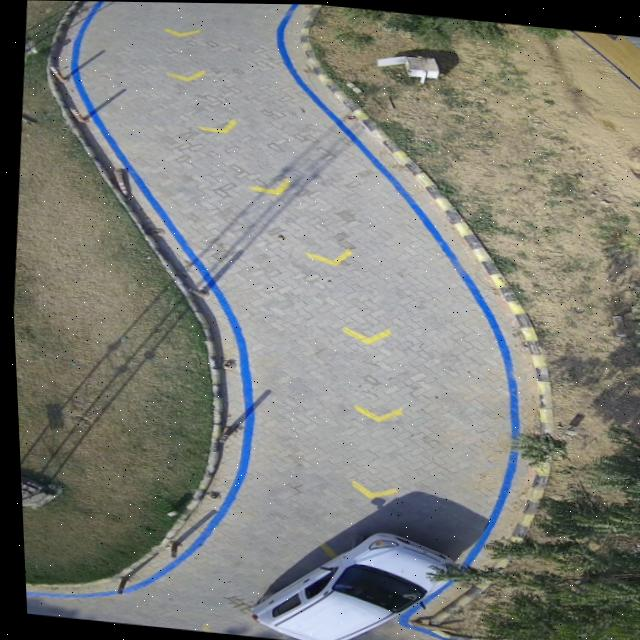car: (247, 530, 446, 640)
